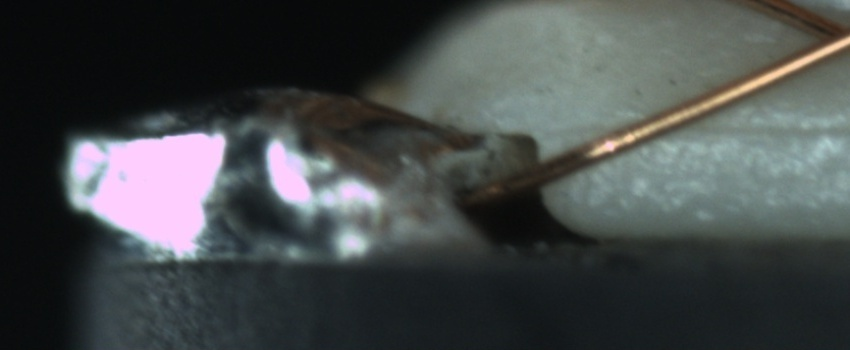CL: (780, 2, 850, 69)
DL: (642, 97, 846, 159)
